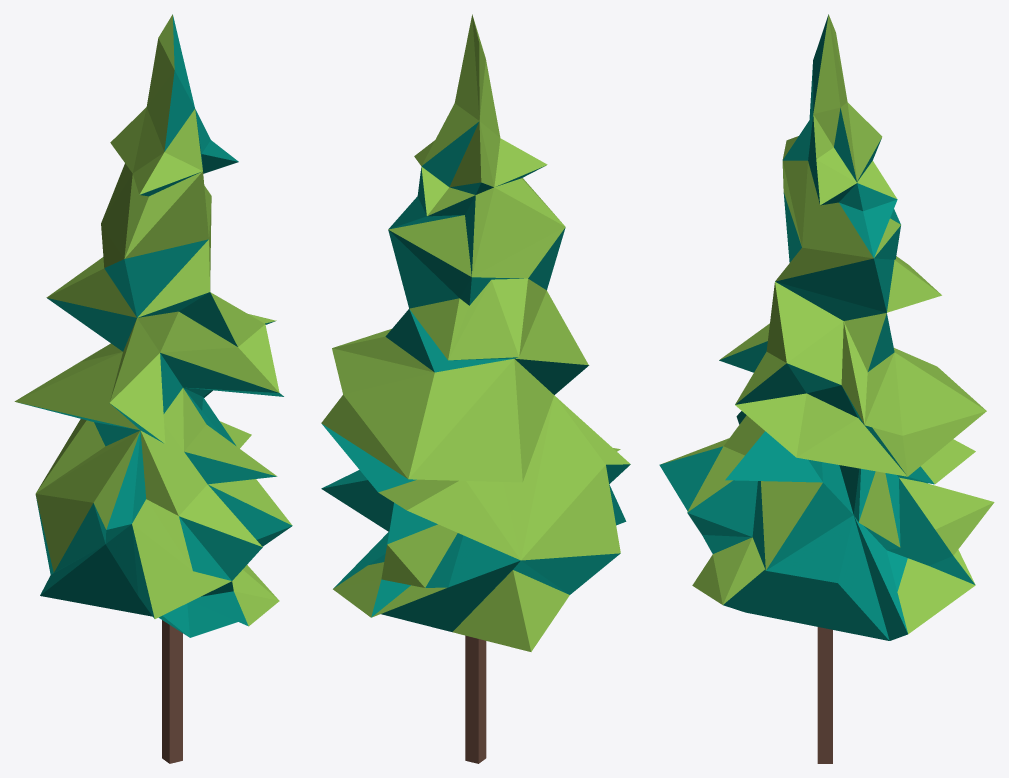
File: tree2.glb
3 views of the same model, side by side, from view 1: azimuth 30°, elevation 25°; view 2: azimuth 150°, elevation 25°; view 3: azimuth 270°, elevation 25° (orthographic).
Visible parts, largest first — view 1: group871053052; view 2: group871053052; view 3: group871053052.
Boxes of the visible parts, <box> form: group871053052: <box>14,14,292,763</box>; group871053052: <box>321,14,630,763</box>; group871053052: <box>659,14,994,763</box>.
Size of the model in its own units: 1.53 by 4.27 by 1.73.
